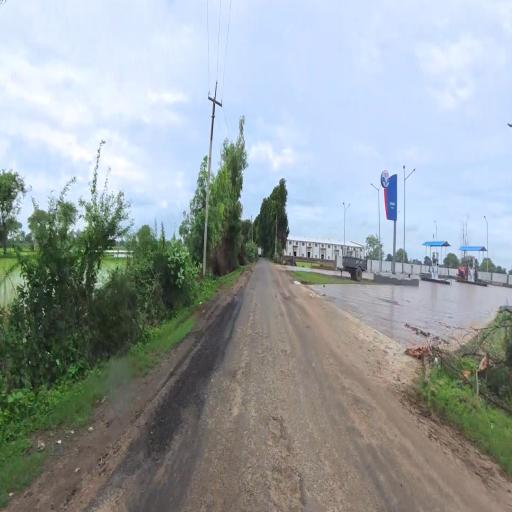ravelling: (138, 263, 237, 462), (245, 370, 318, 512)
